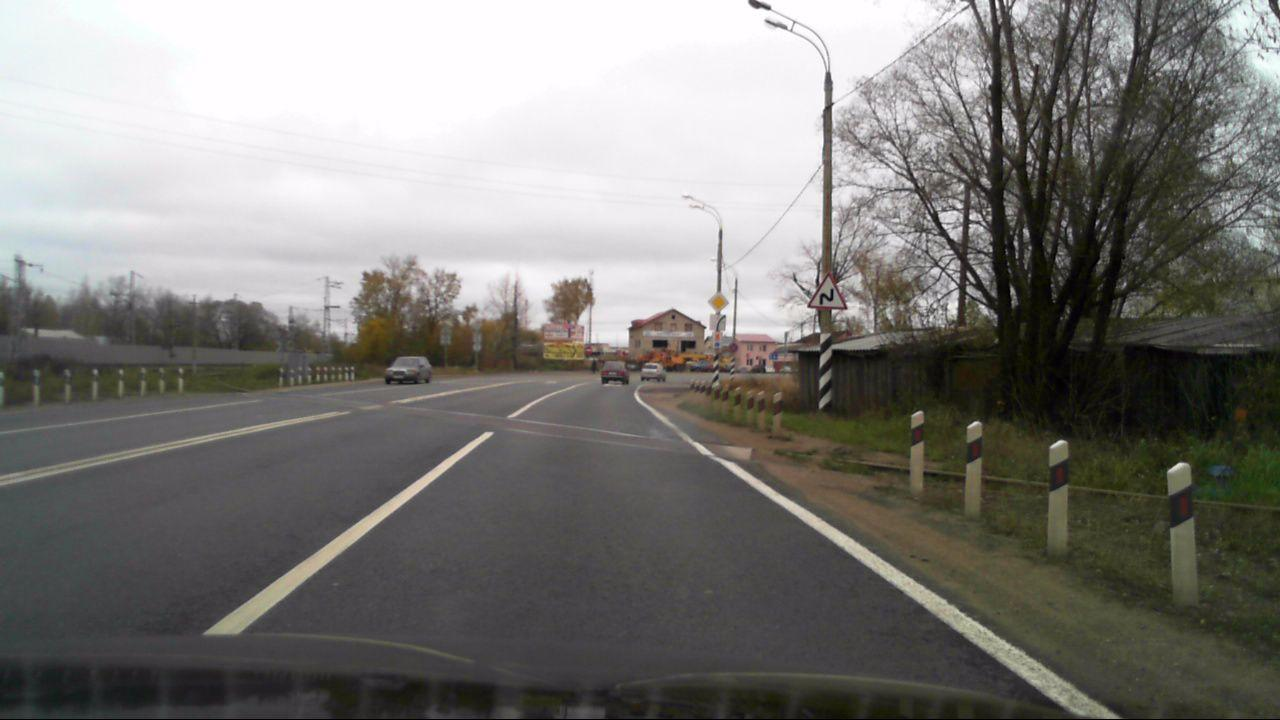1_12_1: (807, 273, 846, 310)
2_1: (708, 291, 729, 312)
3_27: (729, 343, 738, 352)
4_8_1: (711, 332, 723, 350)
8_13: (708, 313, 727, 331)
